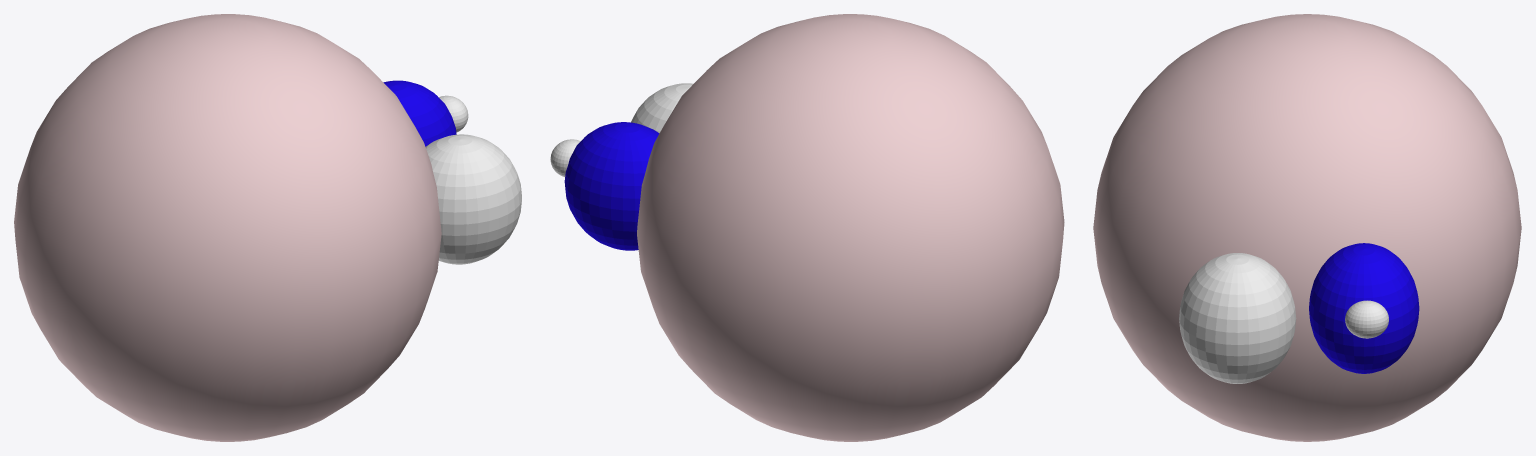
The picture shows the model from 3 angles, left to right: view 1: azimuth 30°, elevation 25°; view 2: azimuth 150°, elevation 25°; view 3: azimuth 270°, elevation 25°; orthographic projection.
Parts seen in each view (by area): view 1: Sphere, Sphere.001, Sphere.002, Sphere.003; view 2: Sphere, Sphere.002, Sphere.001, Sphere.003; view 3: Sphere, Sphere.001, Sphere.002, Sphere.003.
Boxes of the visible parts, x1,y1,x2,y2 form: Sphere: (14,14,441,441); Sphere.001: (425,134,521,264); Sphere.002: (383,80,456,146); Sphere.003: (439,95,468,132); Sphere: (637,14,1064,441); Sphere.002: (564,122,659,250); Sphere.001: (631,83,693,133); Sphere.003: (550,139,580,176); Sphere: (1093,14,1521,441); Sphere.001: (1179,253,1296,383); Sphere.002: (1309,243,1419,373); Sphere.003: (1345,300,1388,338).
Size of the model in its own units: 2.44 by 2 by 2.
